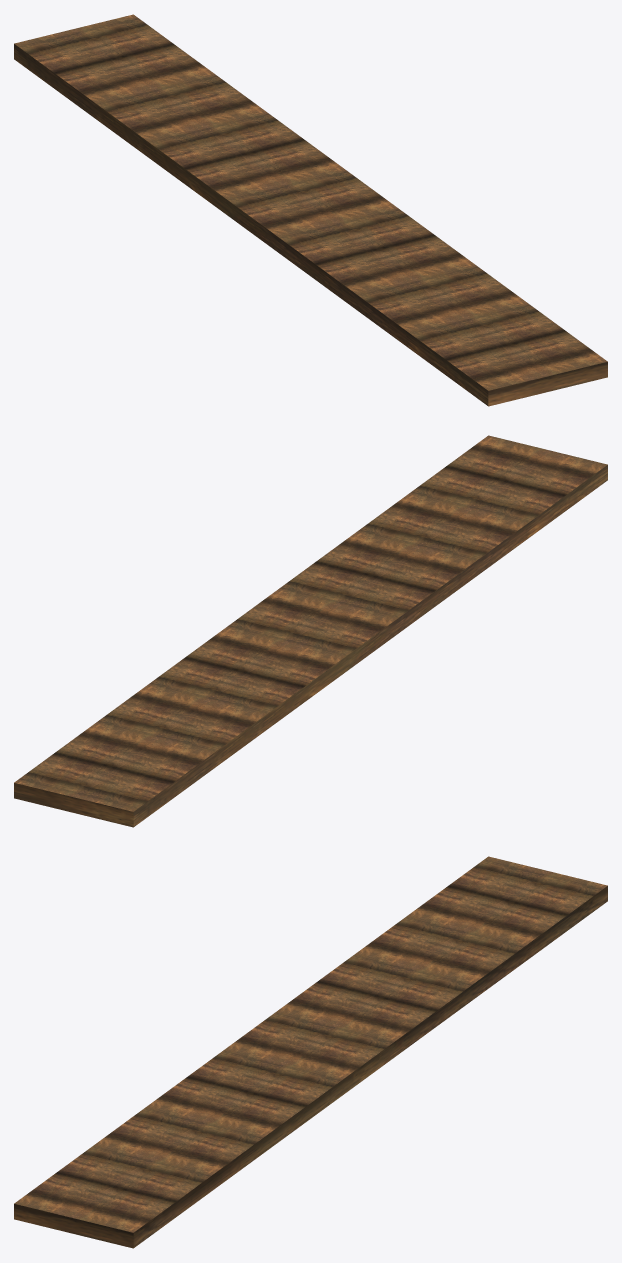
File: wood_bridge.obj
The picture shows the model from 3 angles, top to bottom: view 1: azimuth 30°, elevation 25°; view 2: azimuth 150°, elevation 25°; view 3: azimuth 330°, elevation 25°; orthographic projection.
Parts seen in each view (by area): view 1: SM_MERGED_Plane6_3.018_SM_MERGED_Plane6.018; view 2: SM_MERGED_Plane6_3.018_SM_MERGED_Plane6.018; view 3: SM_MERGED_Plane6_3.018_SM_MERGED_Plane6.018.
Part boxes in pixels (<box>): SM_MERGED_Plane6_3.018_SM_MERGED_Plane6.018: <box>14,14,607,406</box>; SM_MERGED_Plane6_3.018_SM_MERGED_Plane6.018: <box>14,435,607,827</box>; SM_MERGED_Plane6_3.018_SM_MERGED_Plane6.018: <box>14,856,607,1248</box>.
Bounding box in the file's own units: 4.05 × 0.5067 × 27.87.
